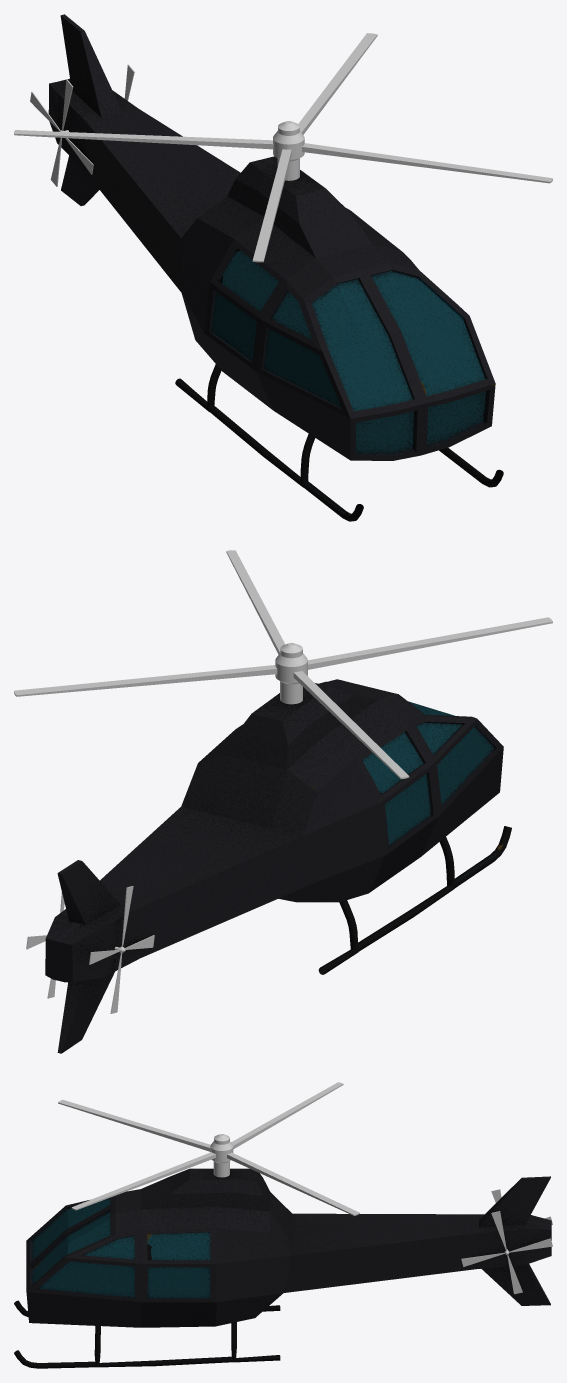
File: anim_000044.obj
3 views of the same model, one above another, from view 1: azimuth 30°, elevation 25°; view 2: azimuth 150°, elevation 25°; view 3: azimuth 270°, elevation 25° (orthographic). The views are drawn at different scales.
Parts seen in each view (by area): view 1: Helicopter.007_Cylinder.008, Helicopter.001_Cylinder.001, Helicopter.004_Cylinder.005; view 2: Helicopter.007_Cylinder.008, Helicopter.001_Cylinder.001, Helicopter.004_Cylinder.005; view 3: Helicopter.007_Cylinder.008, Helicopter.001_Cylinder.001, Helicopter.003_Cylinder.004.
Boxes of the visible parts, <box> form: Helicopter.007_Cylinder.008: <box>48,14,503,521</box>; Helicopter.001_Cylinder.001: <box>14,33,552,262</box>; Helicopter.004_Cylinder.005: <box>30,79,93,186</box>; Helicopter.007_Cylinder.008: <box>45,679,511,1053</box>; Helicopter.001_Cylinder.001: <box>14,550,552,779</box>; Helicopter.004_Cylinder.005: <box>89,886,154,1013</box>; Helicopter.007_Cylinder.008: <box>14,1168,551,1368</box>; Helicopter.001_Cylinder.001: <box>58,1082,359,1215</box>; Helicopter.003_Cylinder.004: <box>461,1211,552,1294</box>.
Size of the model in its own units: 4.38 by 3.21 by 7.51.
